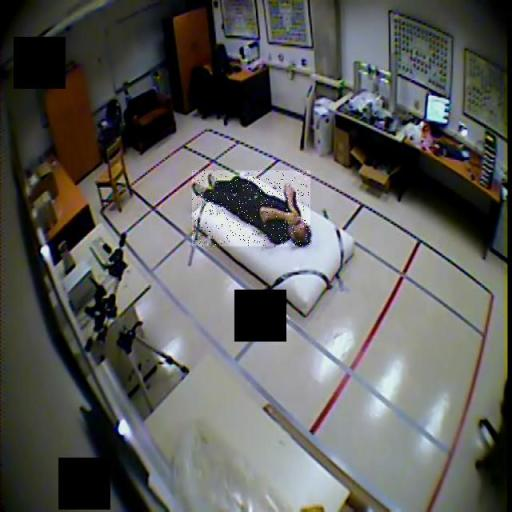Fall: (192, 171, 310, 247)
